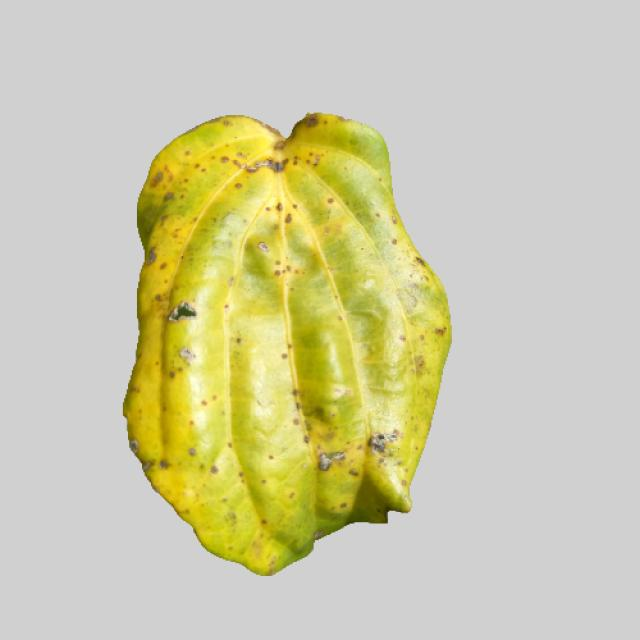yellow-mottle-virus: (108, 110, 478, 570)
